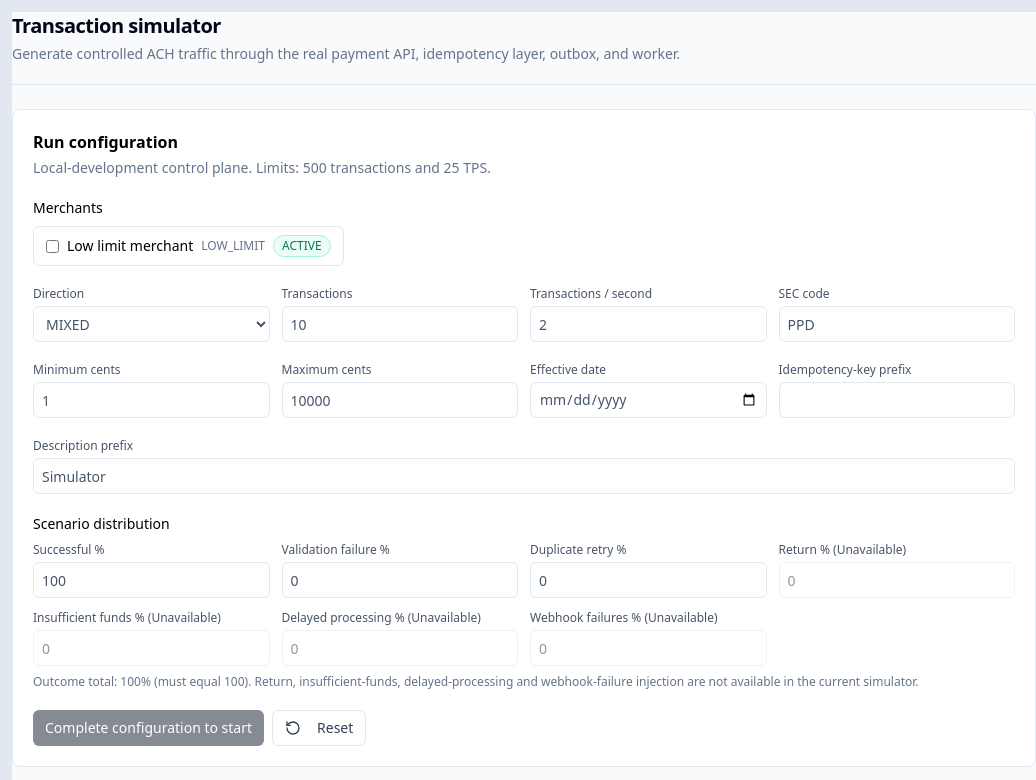
Test: SimulatorManager › blocks a selected merchant whose requested minimum exceeds its real limit
Expected: the text "Low limit merchant" is shown, [67,236,193,255]
Click the checkbox labelled "Low limit merchant LOW_LIMIT ACTIVE" at (52, 246), box [46,240,59,252]
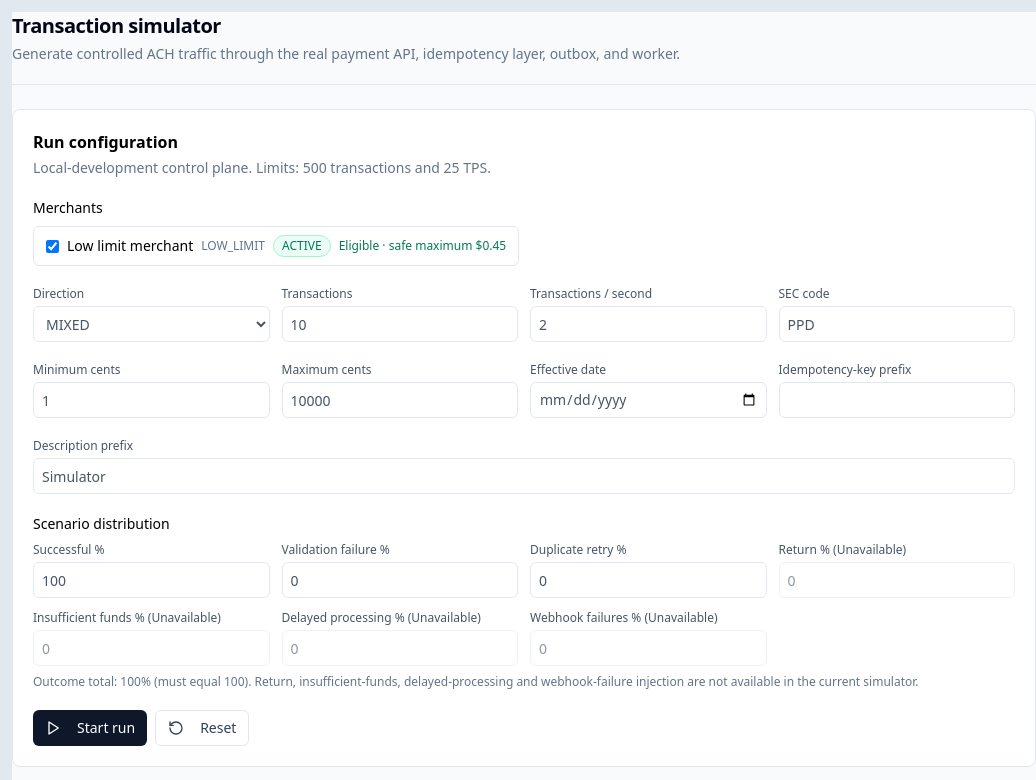
Replace the text in the number field labelled "Minimum cents" with "100" at (151, 400), box [33,382,270,418]
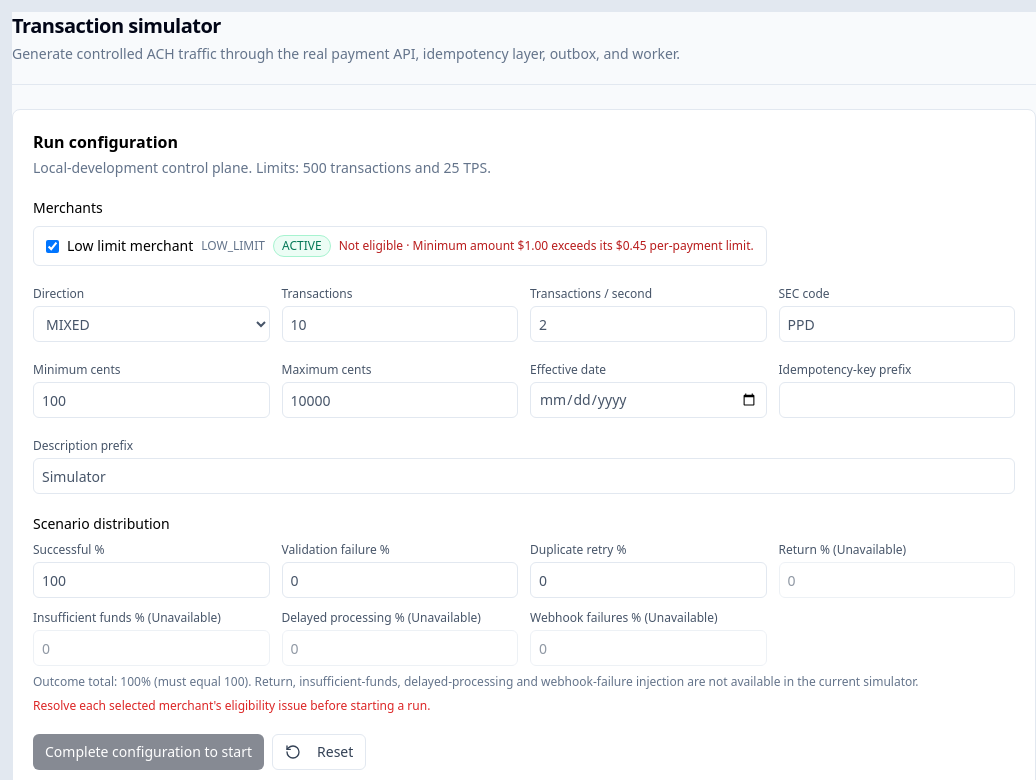
Expected: the text "Not eligible" shows "$1.00 exceeds its $0.45 per-payment limit.", [339,237,754,254]
Expected: the button "Complete configuration to start" is disabled, [33,734,264,770]
